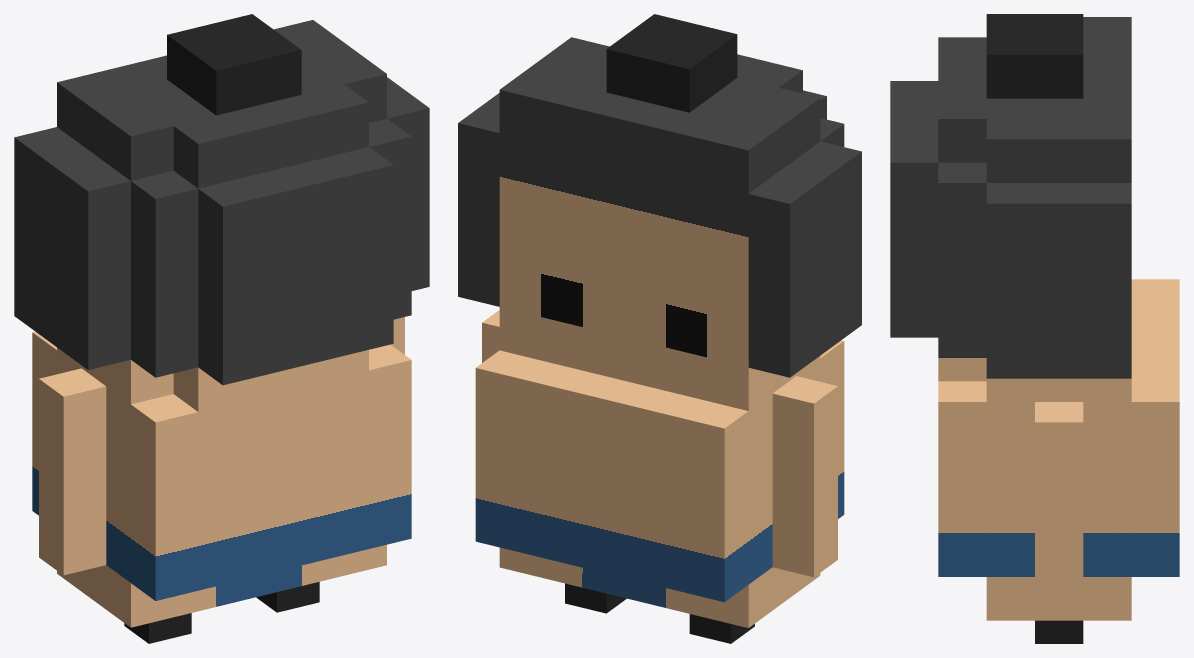
File: chr_sumo1.dae
3 renders of one model, left to right at view 1: azimuth 30°, elevation 25°; view 2: azimuth 150°, elevation 25°; view 3: azimuth 270°, elevation 25°, orthographic. The views are drawn at different scales.
Visible parts, largest first — view 1: chr_sumo1; view 2: chr_sumo1; view 3: chr_sumo1.
Part boxes in pixels (x1,y1,x2,y2): chr_sumo1: [14, 14, 429, 643]; chr_sumo1: [458, 14, 861, 643]; chr_sumo1: [890, 14, 1179, 643].
Bounding box in the file's own units: 0.8 × 0.6 × 1.3.
